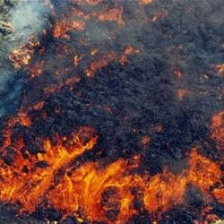fire: (16, 157, 219, 206)
